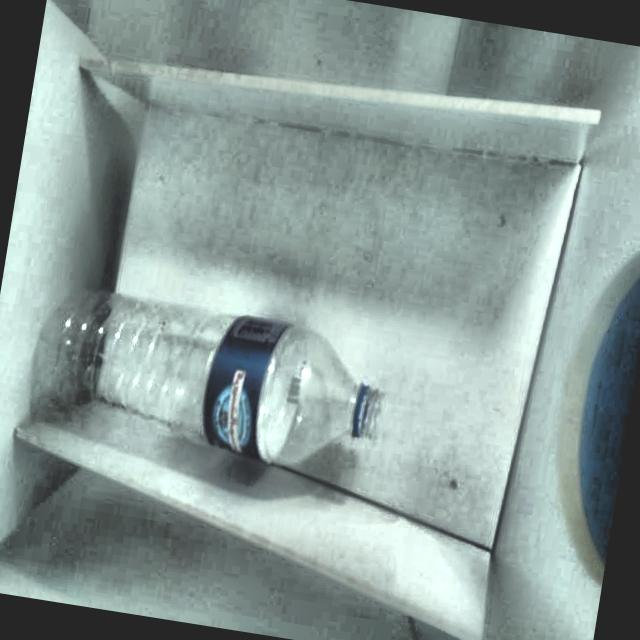plastic bottle: (63, 293, 379, 466)
